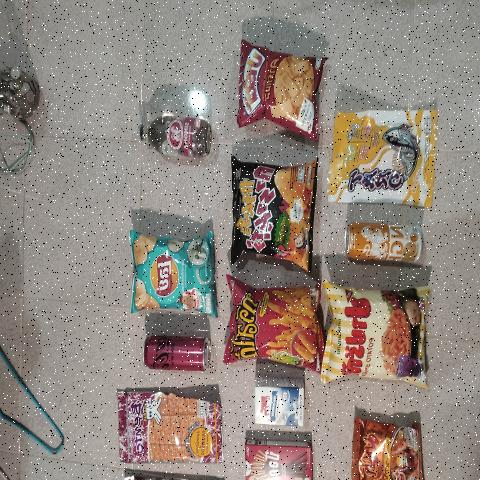bento_red: (120, 394, 221, 460)
coke_red: (141, 334, 214, 370)
karamujo: (230, 157, 310, 256)
lay_blue: (129, 235, 214, 311)
mama: (354, 410, 428, 480)
paprika: (329, 296, 425, 379)
party_red: (236, 49, 317, 133)
pokki: (248, 432, 312, 480)
singha_soda: (134, 111, 214, 158)
singha_yellow: (345, 221, 424, 264)
taro_yellow: (334, 110, 434, 201)
thai_denmark: (253, 372, 306, 428)
twisco: (223, 285, 312, 357)
